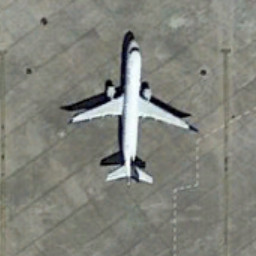Airplane: (62, 23, 201, 198)
